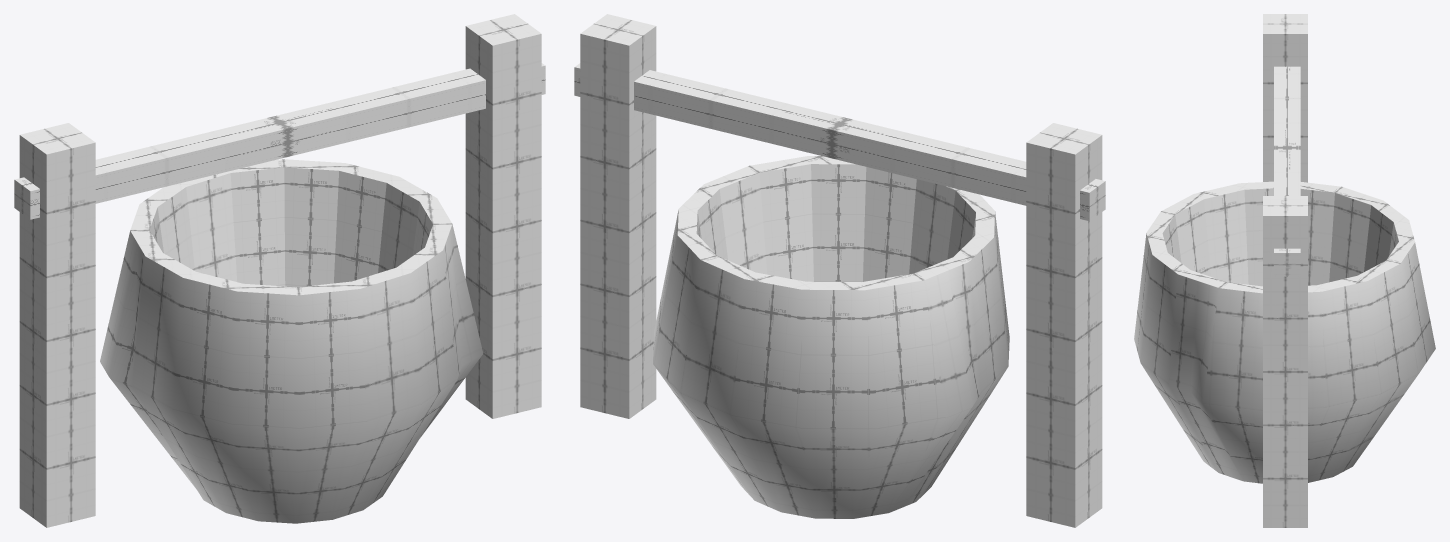
Rendered from Calnde.fbx.
3 views of the same model, side by side, from view 1: azimuth 30°, elevation 25°; view 2: azimuth 150°, elevation 25°; view 3: azimuth 270°, elevation 25° (orthographic). The views are drawn at different scales.
Visible parts, largest first — view 1: Caldeobj, Pillars, Interior, Pillar1, ToPp; view 2: Caldeobj, Pillars, Interior, Pillar1, ToPp; view 3: Caldeobj, Pillars, Interior, Pillar1, ToPp.
Part boxes in pixels (box(x1,y1,x2,y2)): Caldeobj: box(100, 159, 483, 523); Pillars: box(19, 26, 541, 527); Interior: box(149, 167, 432, 287); Pillar1: box(14, 63, 545, 219); ToPp: box(20, 14, 541, 154); Caldeobj: box(653, 156, 1009, 518); Pillars: box(580, 26, 1102, 527); Interior: box(696, 164, 975, 281); Pillar1: box(574, 63, 1105, 221); ToPp: box(580, 14, 1101, 154); Caldeobj: box(1134, 181, 1435, 483); Pillars: box(1263, 34, 1307, 527); Interior: box(1162, 188, 1398, 286); Pillar1: box(1274, 66, 1300, 276); ToPp: box(1263, 14, 1307, 215).
Bounding box in the file's own units: 332 × 246 × 202.
Materials: 1 (1 with a texture image).
